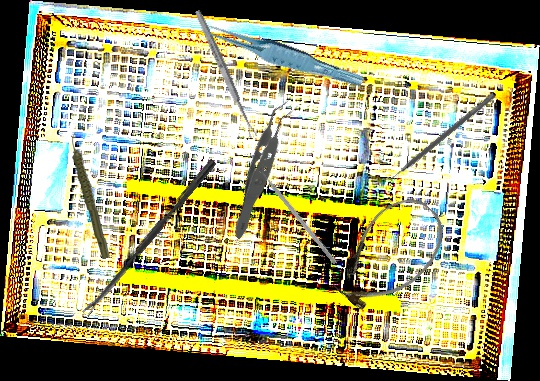Cannula: (320, 184, 459, 325)
Chopper: (256, 162, 343, 265)
Handpiece: (69, 131, 112, 260)
Spatula Surgical: (382, 88, 496, 186)
Surgical Spoon: (81, 158, 217, 317), (193, 9, 258, 139)
Tissue Forceps: (188, 94, 342, 242), (197, 8, 366, 100)
